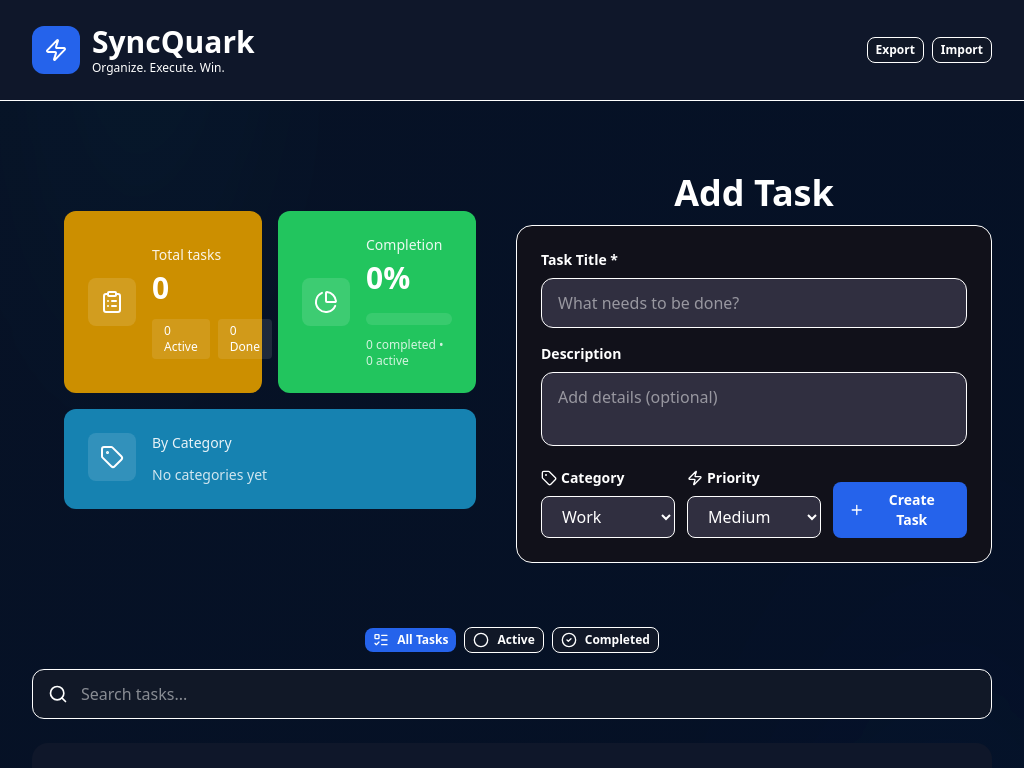
Test: SyncQuark Application Flow (A to Z) › filters tasks correctly using Search (with Debounce)
Type "Buy Groceries" into the field with placeholder "What needs to be done?".
click(754, 303); type("Buy Groceries")  # box [541,278,967,328]
Click the button "Create Task".
click(900, 510)  # box [833,482,967,538]
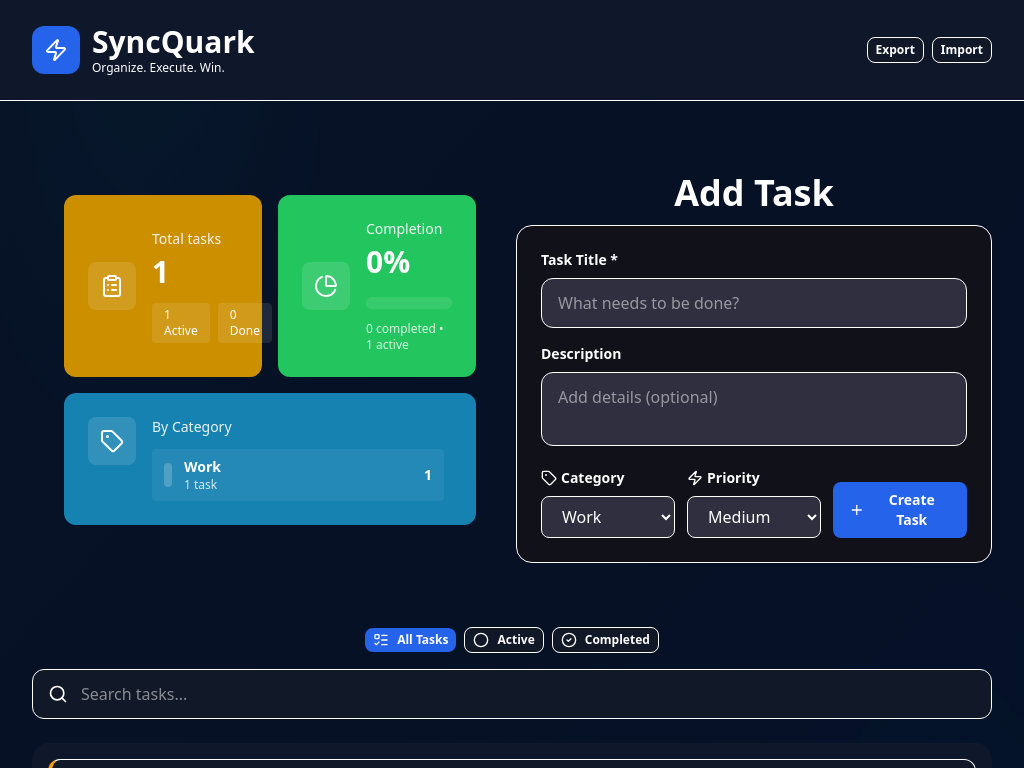
Type "Walk the Dog" into the field with placeholder "What needs to be done?".
click(754, 303); type("Walk the Dog")  # box [541,278,967,328]
Click the button "Create Task".
click(900, 510)  # box [833,482,967,538]
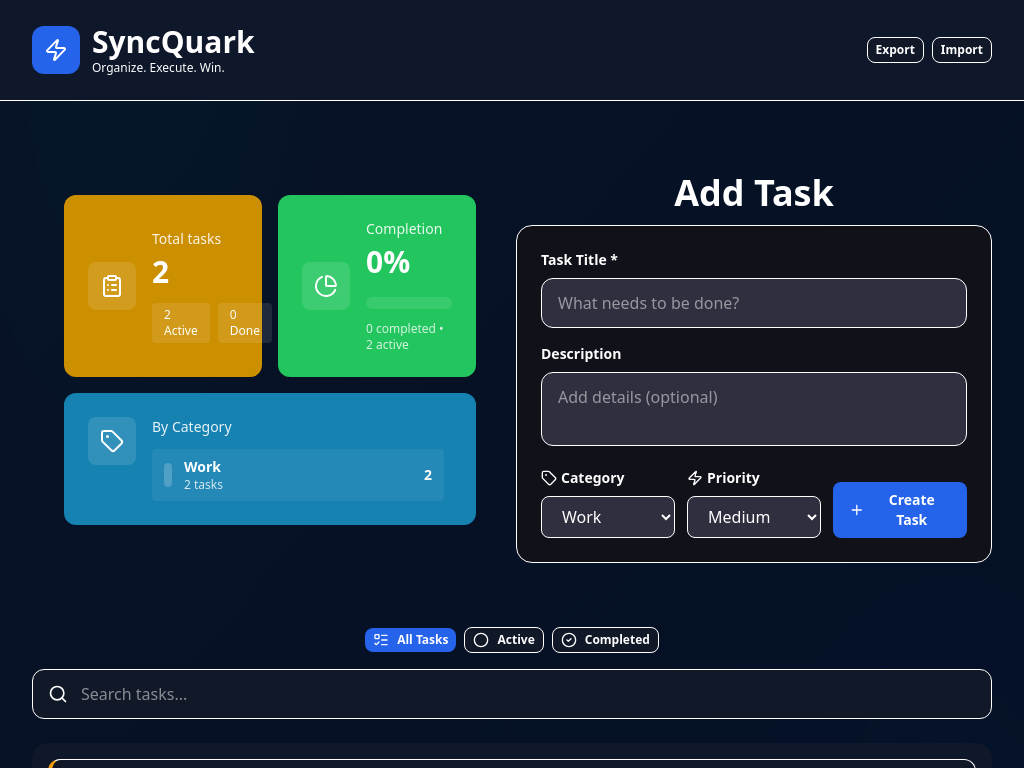
Type "Buy Milk" into the field with placeholder "What needs to be done?".
click(754, 303); type("Buy Milk")  # box [541,278,967,328]
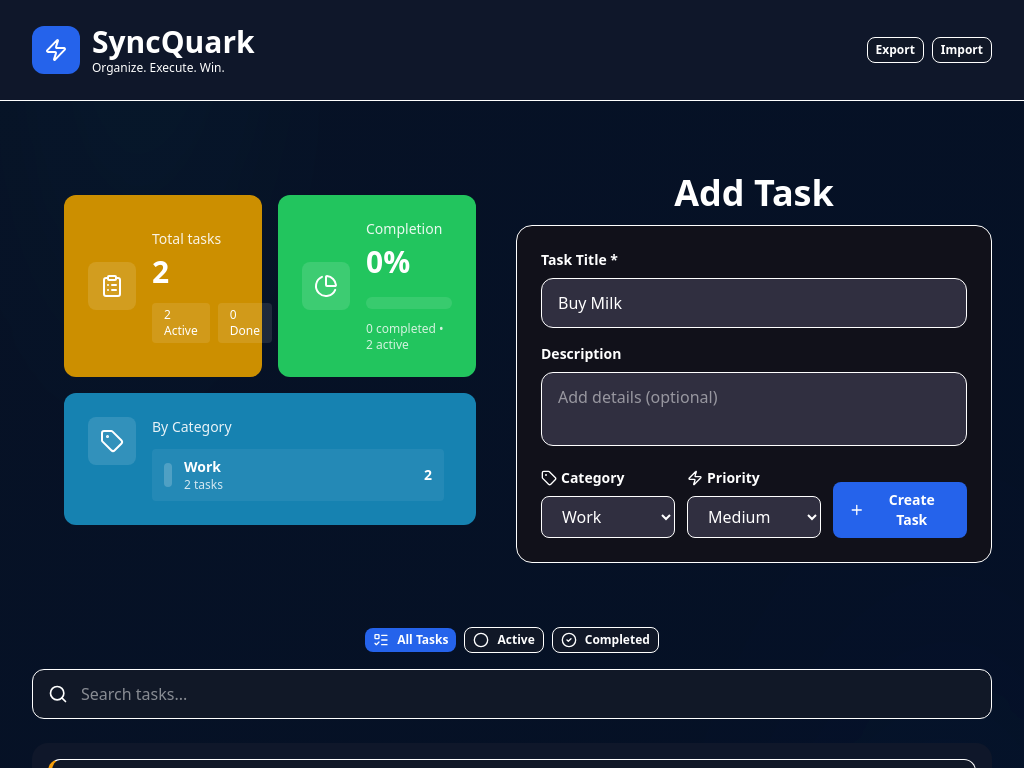
Click the button "Create Task".
click(900, 510)  # box [833,482,967,538]
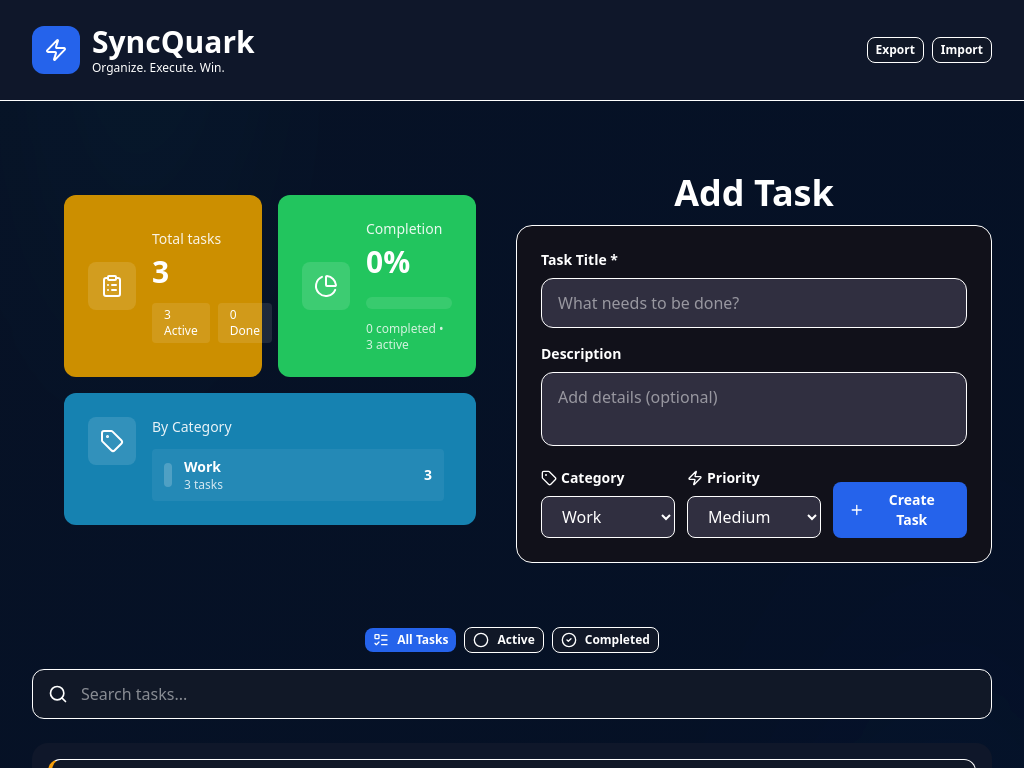
Type "Buy" into the field with placeholder "Search tasks...".
click(512, 694); type("Buy")  # box [32,669,992,719]
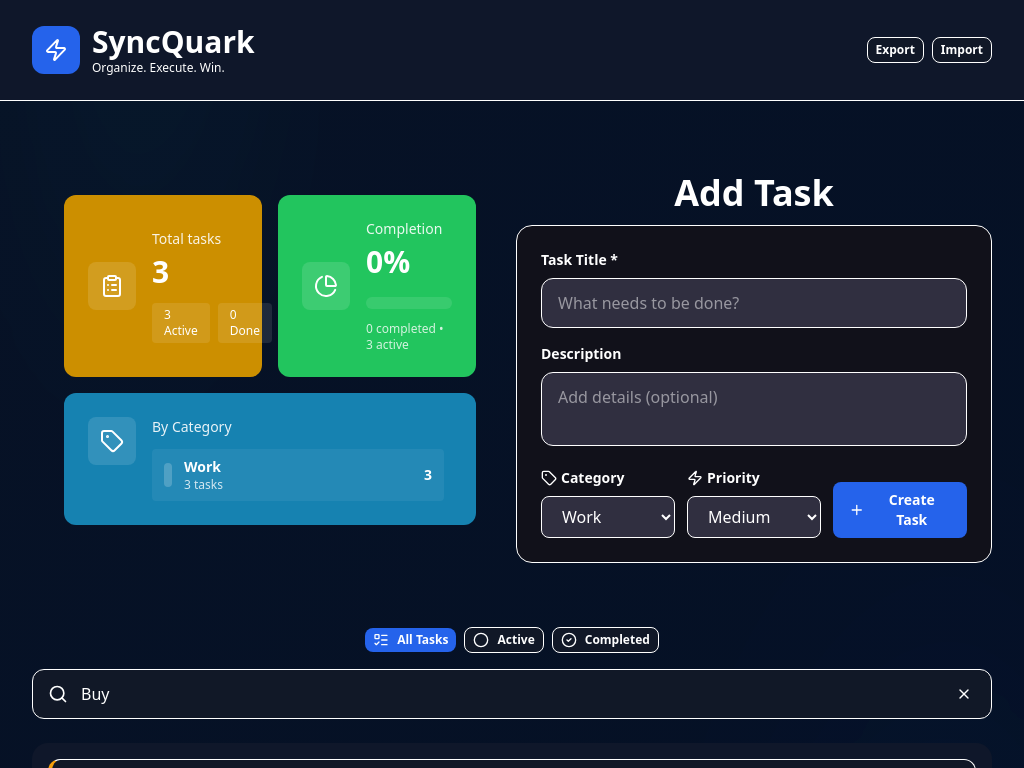
Check: the text "Walk the Dog" is not shown
Click the button named "Clear search".
click(964, 694)  # box [948,682,980,706]
(page scrolled)
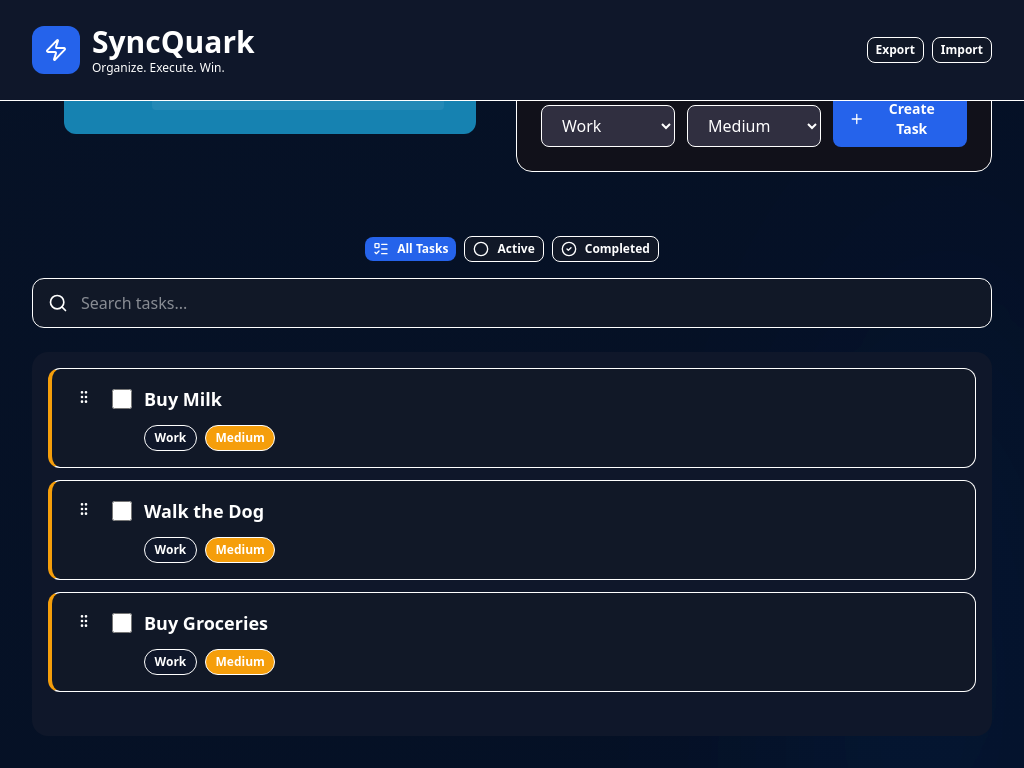
Check: the text "Walk the Dog" is shown, box [144,499,264,523]
